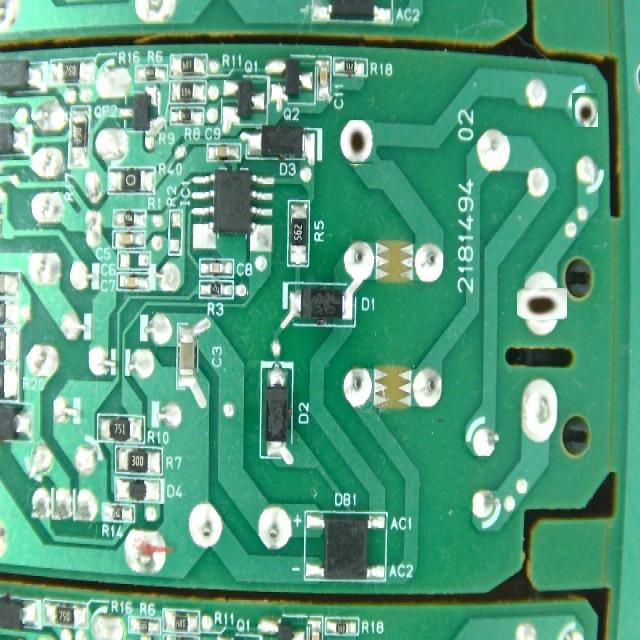damged: (521, 284, 563, 325), (340, 120, 374, 164), (572, 93, 598, 127)
